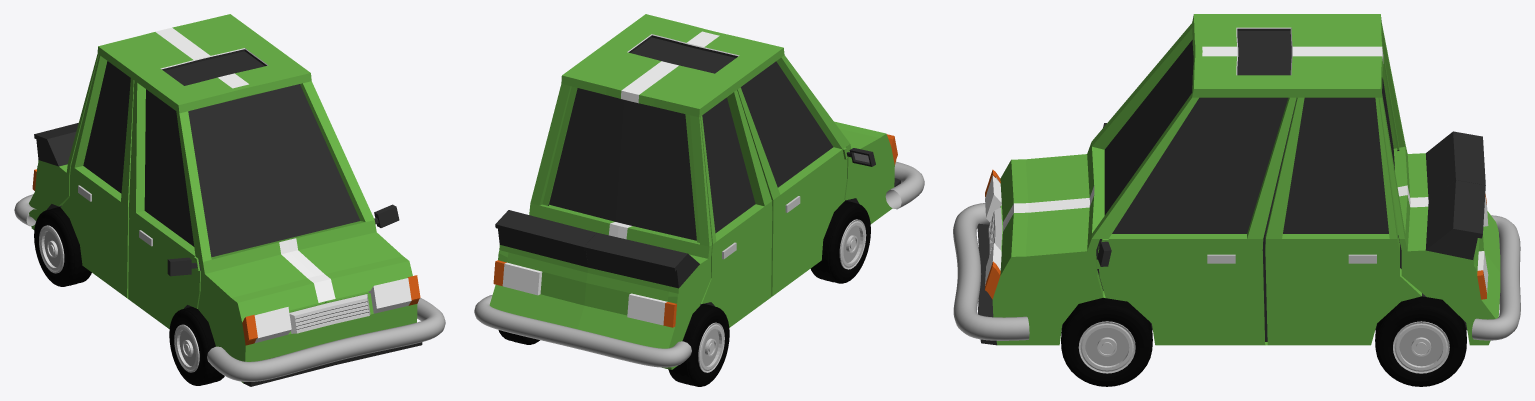
File: CR-CAR-2A.fbx
The picture shows the model from 3 angles, left to right: view 1: azimuth 30°, elevation 25°; view 2: azimuth 150°, elevation 25°; view 3: azimuth 270°, elevation 25°; orthographic projection. The views are drawn at different scales.
Parts seen in each view (by area): view 1: BODY, NurbsPath, WHEEL.004, WHEEL.001, NurbsPath.001; view 2: BODY, NurbsPath.001, WHEEL.001, WHEEL.004, NurbsPath; view 3: BODY, WHEEL.002, WHEEL.003, NurbsPath, NurbsPath.001.
Part boxes in pixels (bbox=[...]): BODY: bbox=[29, 14, 422, 386]; NurbsPath: bbox=[207, 298, 445, 381]; WHEEL.004: bbox=[34, 207, 91, 286]; WHEEL.001: bbox=[169, 307, 224, 385]; NurbsPath.001: bbox=[14, 194, 36, 226]; BODY: bbox=[489, 14, 900, 369]; NurbsPath.001: bbox=[474, 295, 691, 367]; WHEEL.001: bbox=[810, 200, 870, 283]; WHEEL.004: bbox=[668, 304, 729, 386]; NurbsPath: bbox=[885, 161, 924, 209]; BODY: bbox=[977, 14, 1500, 345]; WHEEL.002: bbox=[1375, 296, 1466, 386]; WHEEL.003: bbox=[1061, 297, 1152, 386]; NurbsPath: bbox=[953, 203, 1029, 340]; NurbsPath.001: bbox=[1472, 215, 1520, 340].
Size of the model in its own units: 131 by 133 by 242.
